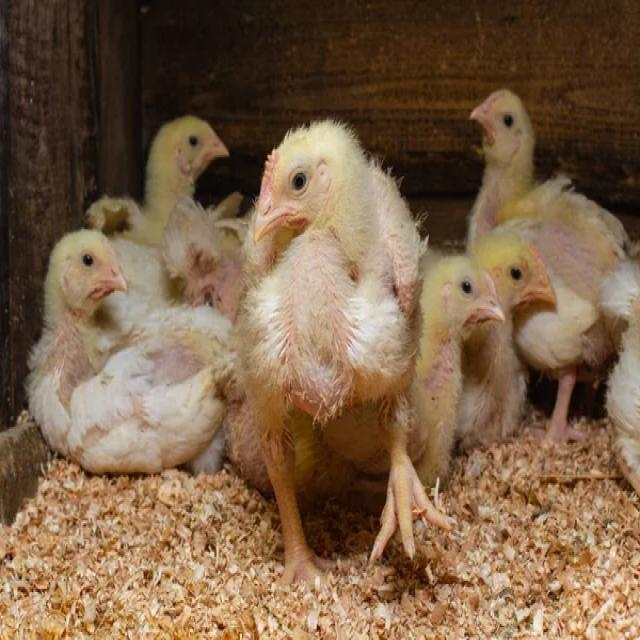poussin: (247, 120, 436, 571), (466, 85, 626, 435), (35, 222, 248, 469), (388, 256, 506, 534), (142, 115, 256, 304), (465, 239, 557, 449)
